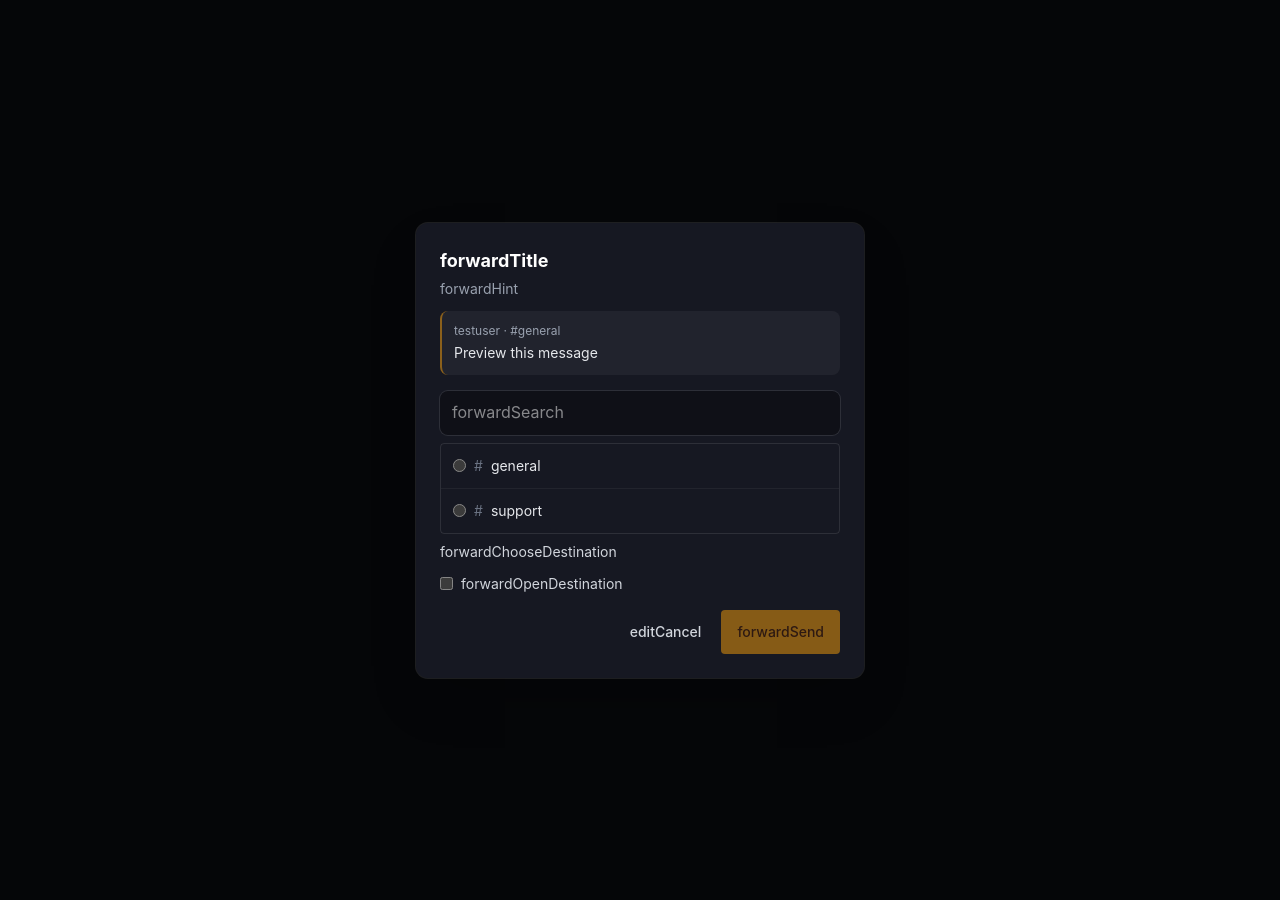
Scenario: searches and previews without sending on destination selection
Expected: the text "Preview this message" is shown, [454, 344, 598, 360]
Expected: the button "forwardSend" is disabled, [721, 610, 840, 654]
Type "support" into the search field. click: (640, 412)
box: [440, 390, 840, 434]
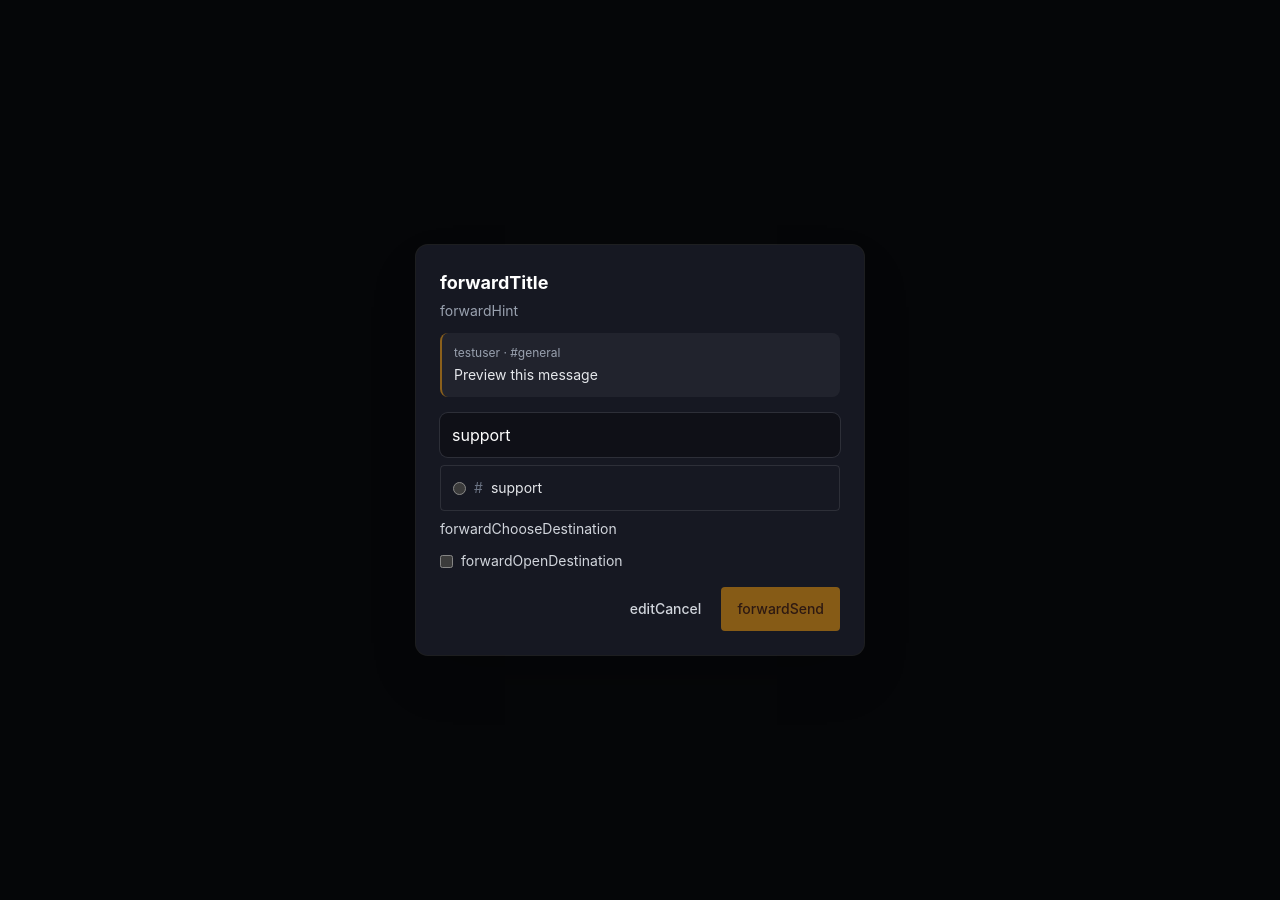
Click the radio button labelled "# support". click: click(460, 488)
box: [453, 482, 466, 494]
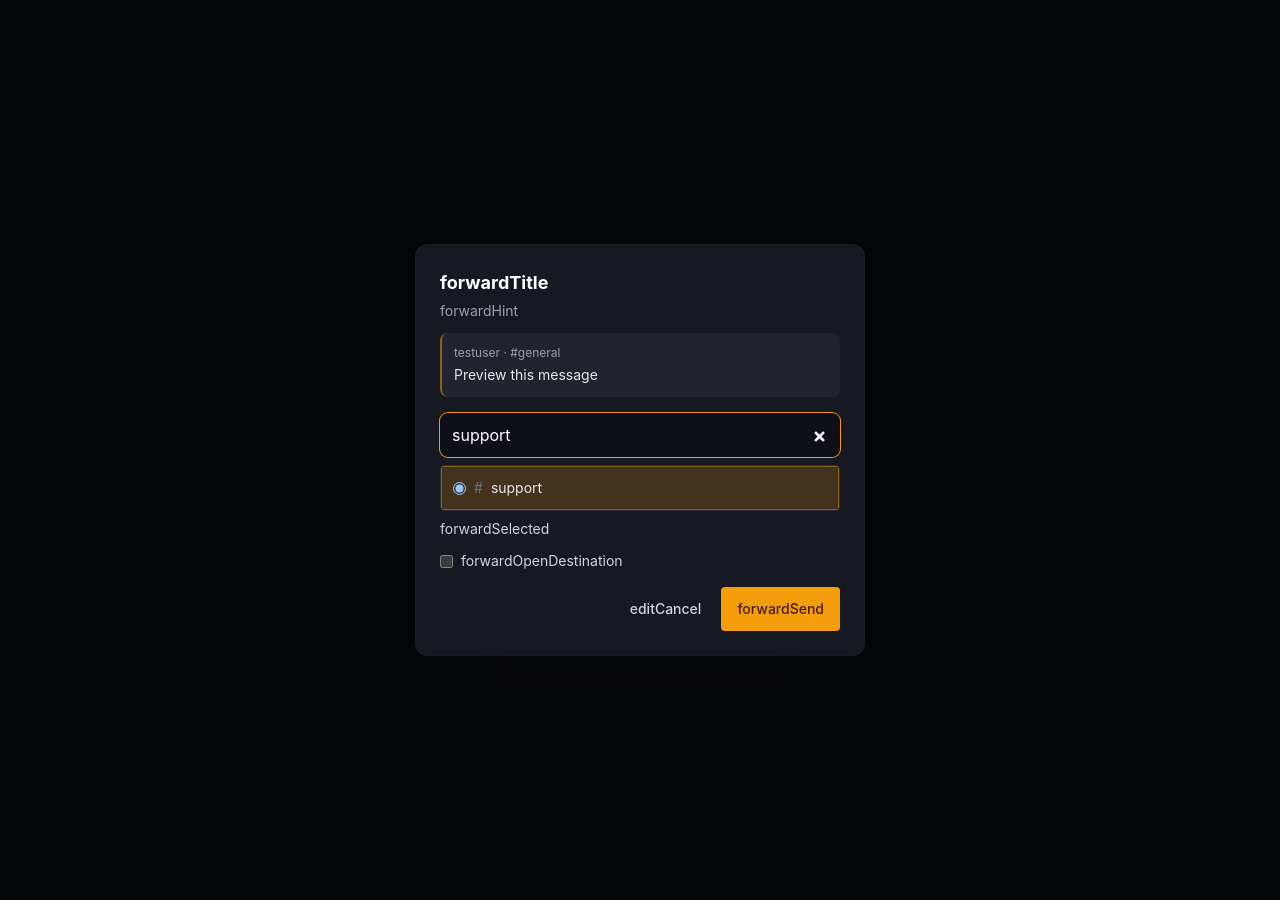
Now the button "forwardSend" is enabled, box [721, 587, 840, 631]
